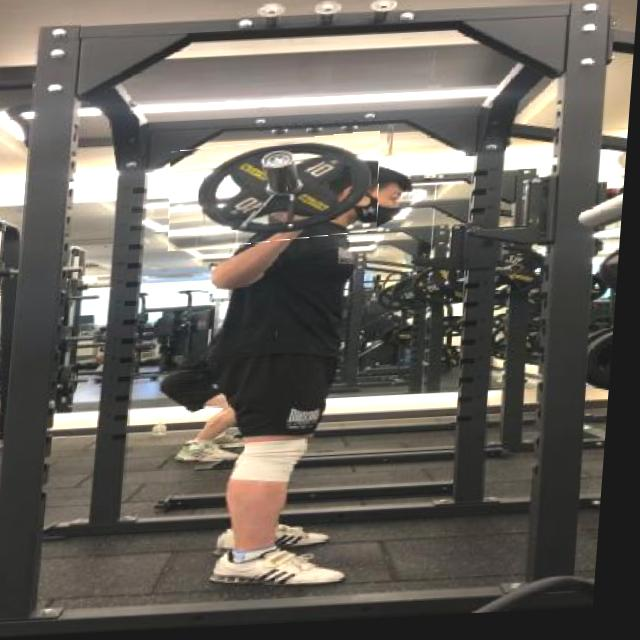barbell: (170, 138, 386, 252)
